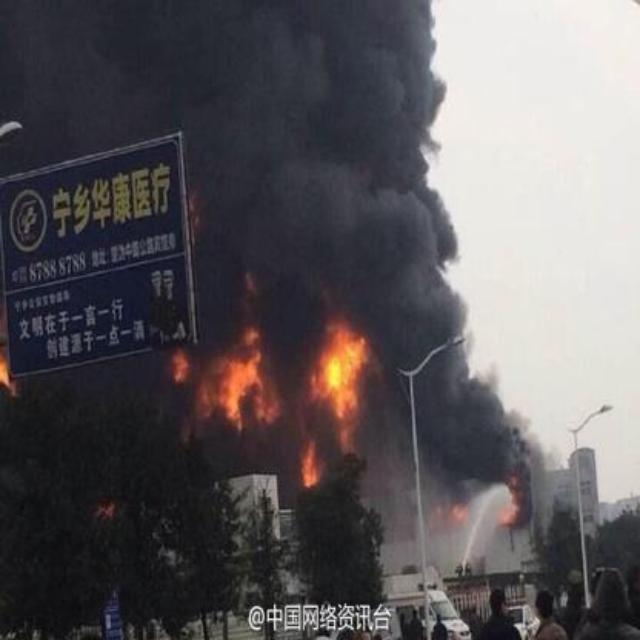Fire: (201, 279, 387, 506), (418, 464, 526, 538), (1, 334, 32, 438), (174, 336, 196, 396)
Smoke: (206, 1, 454, 298), (388, 301, 551, 484), (3, 2, 201, 148)
